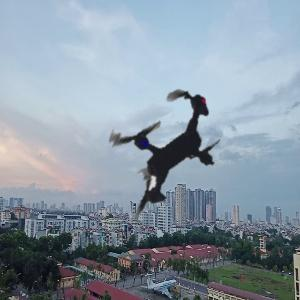drone: (64, 46, 270, 252)
